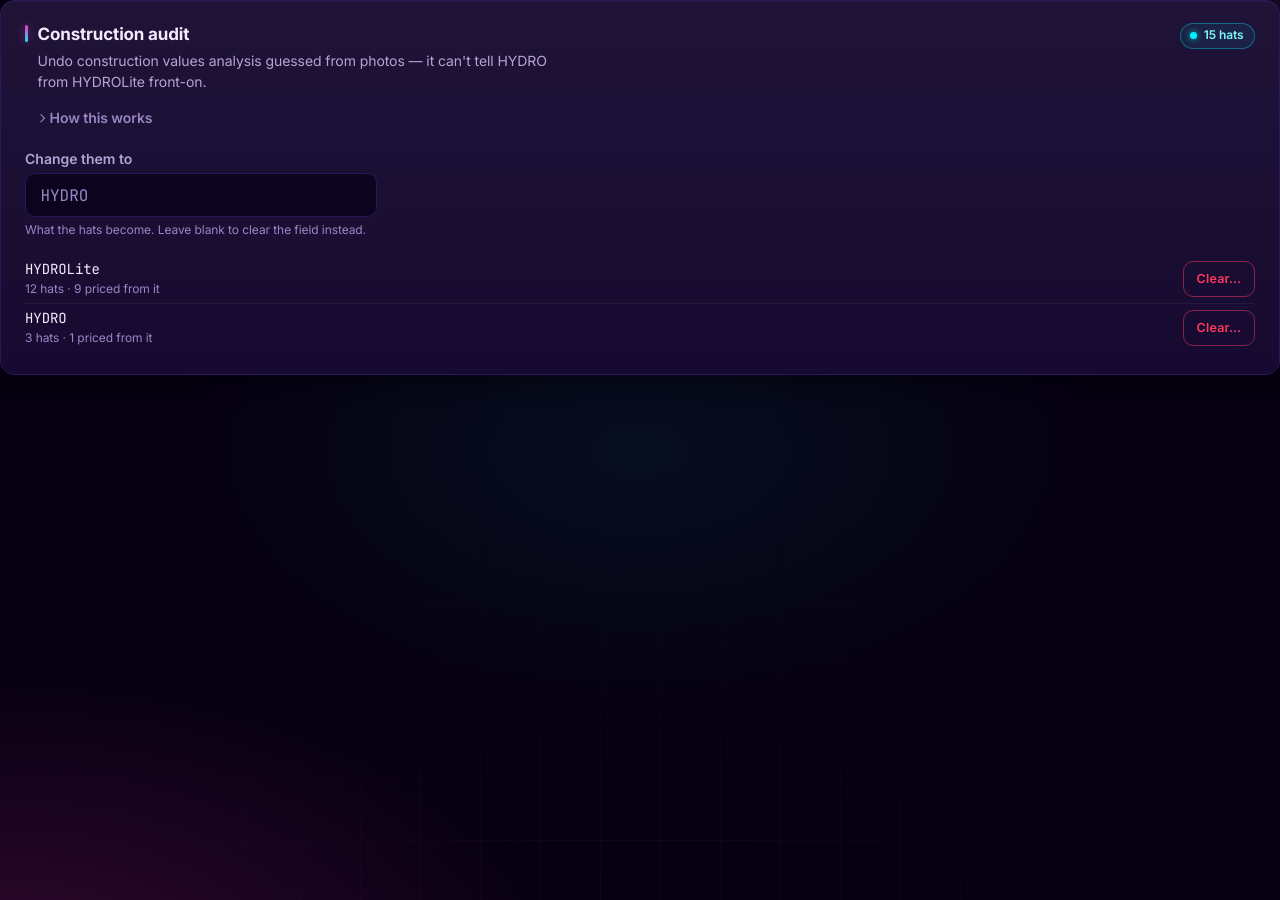
Test: ConstructionAuditCard › previews before it writes, and writes only on the explicit button
Click the button with aria-label "Clear HYDROLite…" at (1219, 279), box [1183,261,1255,297]
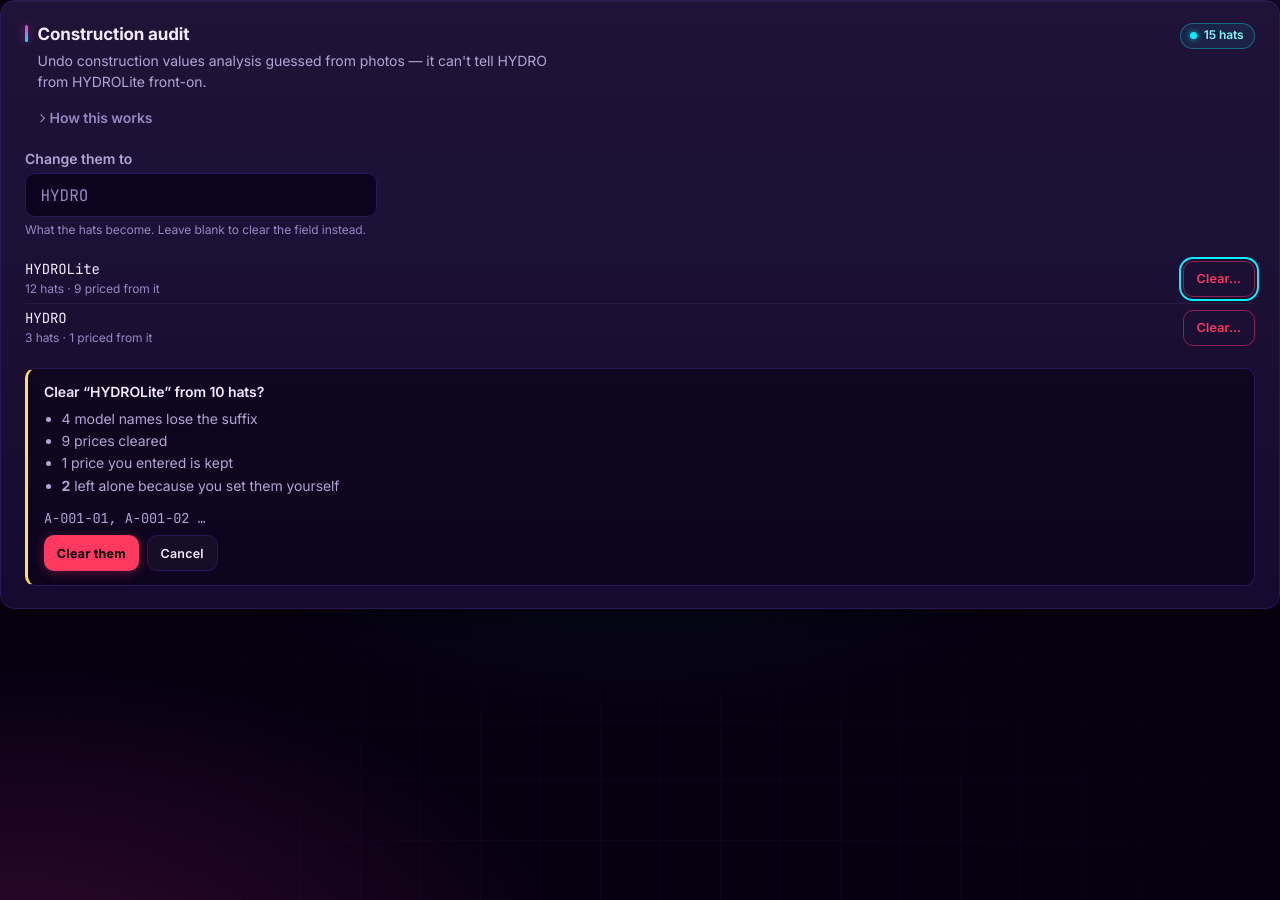
expect the text "Clear “HYDROLite” from 10 hats?" is shown: met, box [44,383,264,400]
expect the list item "2 left alone because you set them yourself" is shown: met, box [62,477,340,494]
Click the button "Clear them" at (91, 553), box [44,535,139,571]
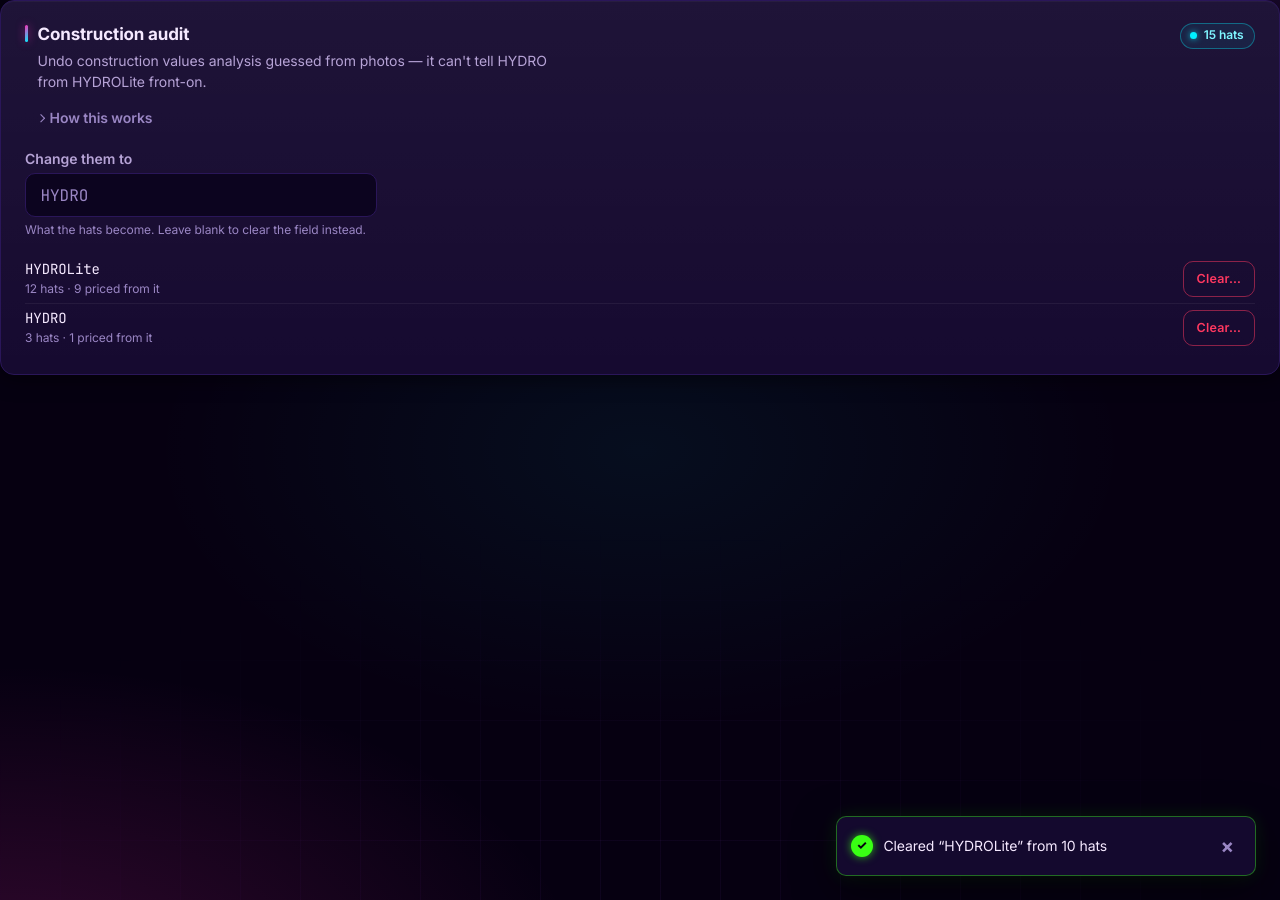
expect the text "Cleared “HYDROLite” from 10 hats" is shown: met, box [883,837,1107,854]
